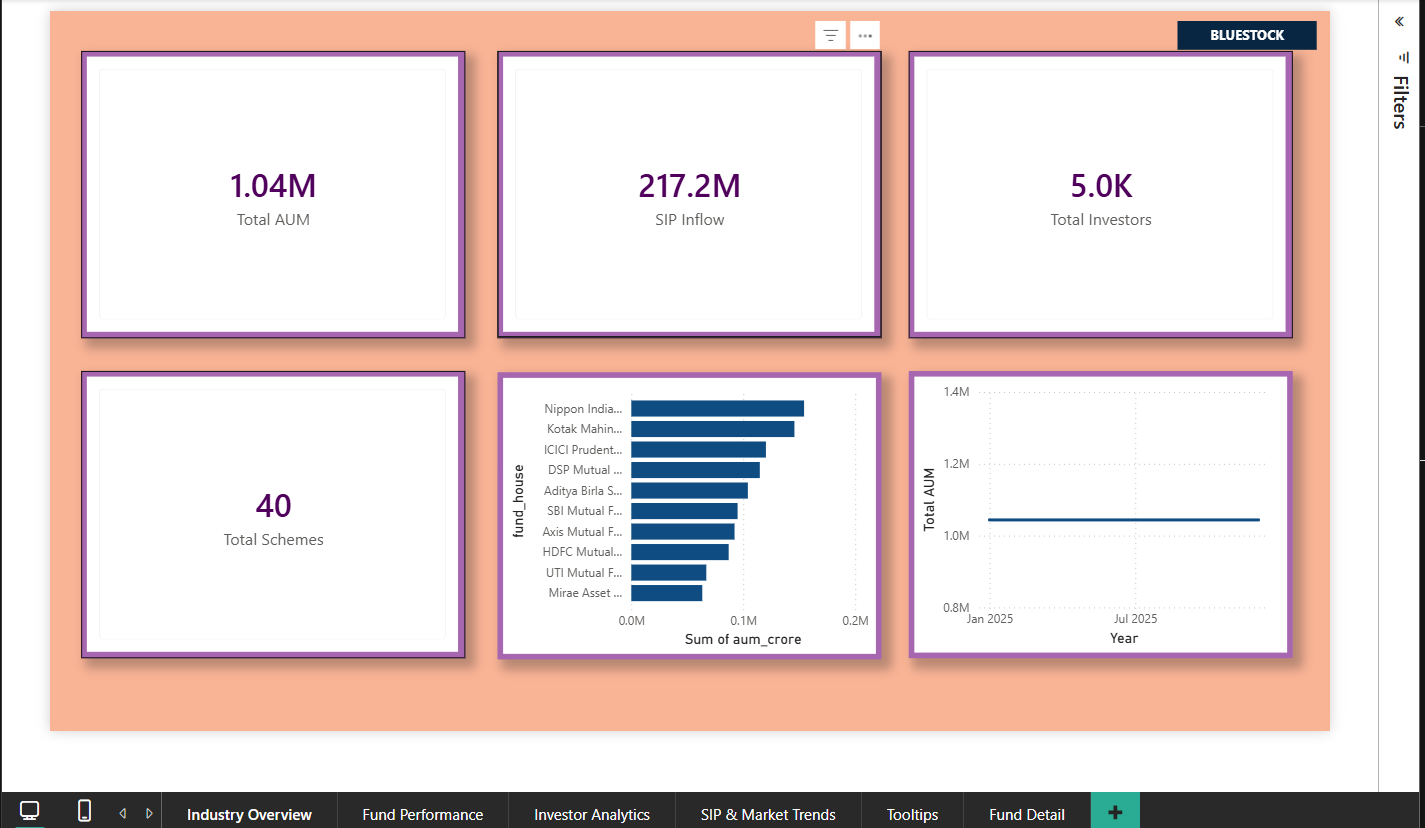

The page's visual inventory and layout, read from the dashboard file:
{"tool":"powerbi","page":{"name":"Industry Overview","canvas":[1280,720],"ordinal":0},"visuals":[{"type":"cardVisual","fields":{"Data":["fund_master_clean.Total AUM"]},"box":[31.4,39.5,383.7,287.2],"z":0},{"type":"cardVisual","fields":{"Data":["fund_master_clean.SIP Inflow"]},"box":[447.7,39.5,383.7,287.2],"z":1000},{"type":"cardVisual","fields":{"Data":["fund_master_clean.Total Investors"]},"box":[858.1,39.5,383.7,287.2],"z":2000},{"type":"cardVisual","fields":{"Data":["fund_master_clean.Total Schemes"]},"box":[31.4,360.5,383.7,287.2],"z":3000},{"type":"lineChart","fields":{"Category":["nav_history_clean.date.Variation.Date Hierarchy.Year","nav_history_clean.date.Variation.Date Hierarchy.Month","nav_history_clean.date.Variation.Date Hierarchy.Day"],"Y":["fund_master_clean.Total AUM"]},"box":[858.1,360.5,383.7,287.2],"z":4000},{"type":"clusteredBarChart","fields":{"Y":["Sum(scheme_performance_clean.aum_crore)"],"Category":["fund_master_clean.fund_house"]},"box":[447.7,361.6,383.7,287.2],"z":5000},{"type":"textbox","box":[1127.9,10.5,139.5,29.1],"z":6000}]}

Visuals, with their boxes on the page's 1280x720 design canvas (x1, y1, x2, y2). These are canvas units, not pixel positions in the 1425x828 screenshot, which may show the page scaled, cropped or inside an application window:
cardVisual - fund_master_clean.Total AUM: 31,40,415,327
cardVisual - fund_master_clean.SIP Inflow: 448,40,831,327
cardVisual - fund_master_clean.Total Investors: 858,40,1242,327
cardVisual - fund_master_clean.Total Schemes: 31,360,415,648
lineChart - nav_history_clean.date.Variation.Date Hierarchy.Year x nav_history_clean.date.Variation.Date Hierarchy.Month: 858,360,1242,648
clusteredBarChart - Sum(scheme_performance_clean.aum_crore) x fund_master_clean.fund_house: 448,362,831,649
textbox: 1128,10,1267,40
